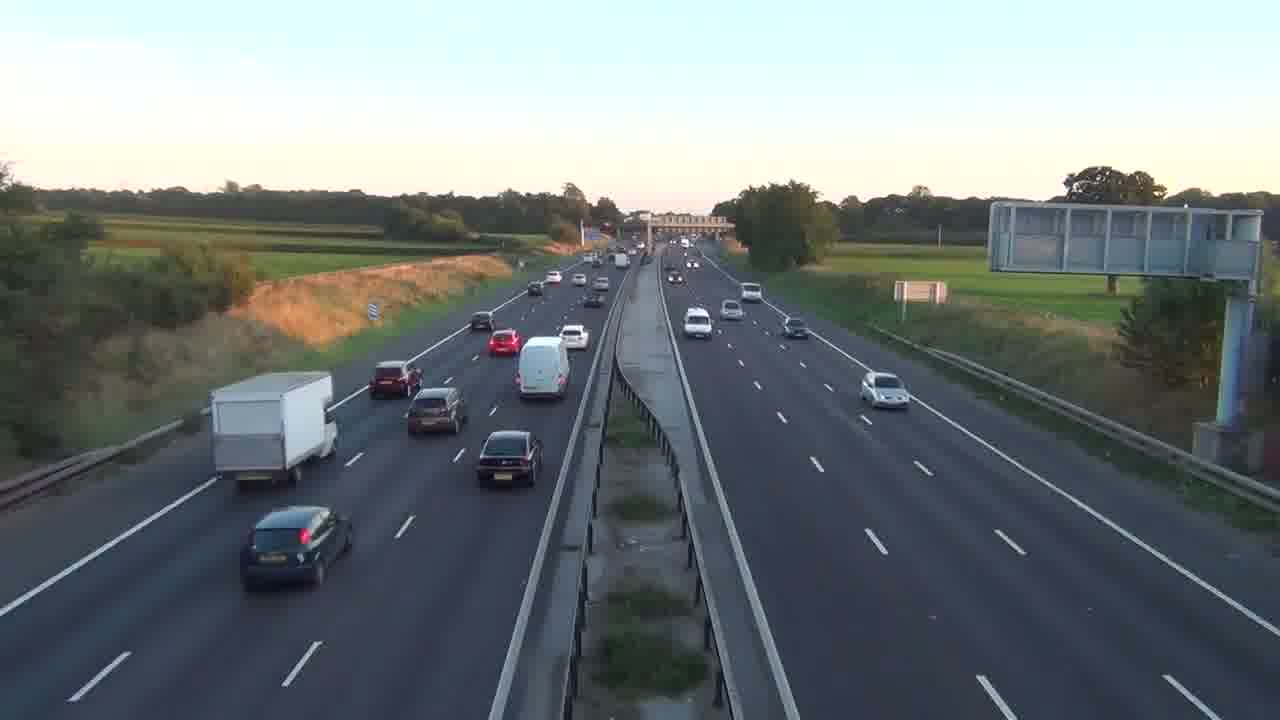car: (239, 505, 354, 590), (474, 429, 545, 488), (405, 386, 467, 436), (368, 359, 423, 399), (859, 372, 911, 410), (487, 327, 521, 357), (559, 322, 591, 351)
truck: (209, 370, 339, 486), (513, 336, 571, 402)
